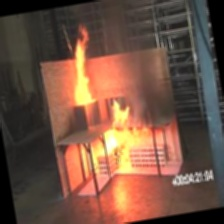fire: (51, 22, 110, 118), (98, 102, 148, 172)
